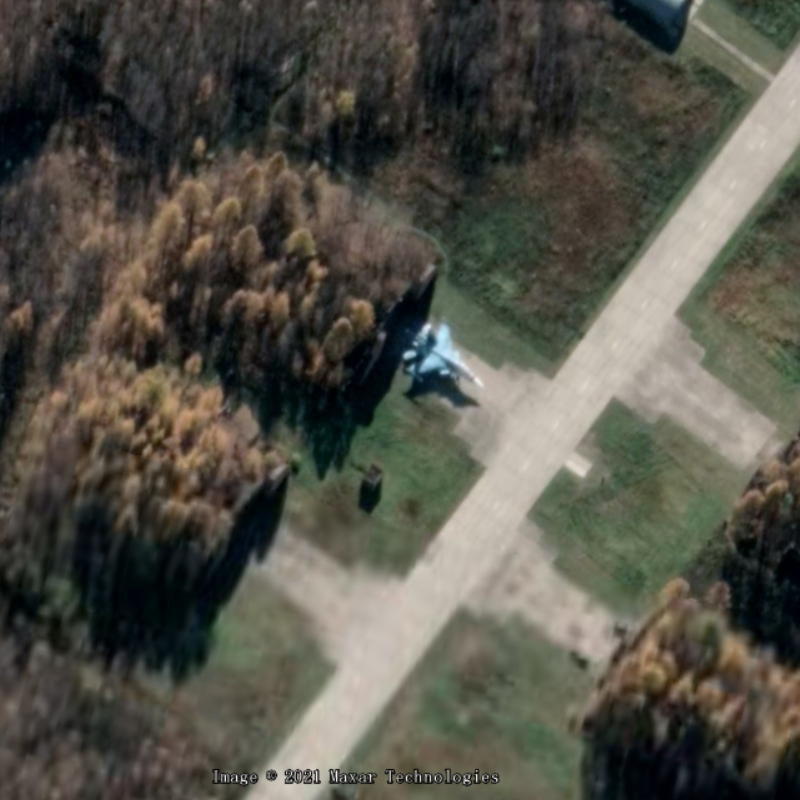A19: (400, 314, 488, 392)
